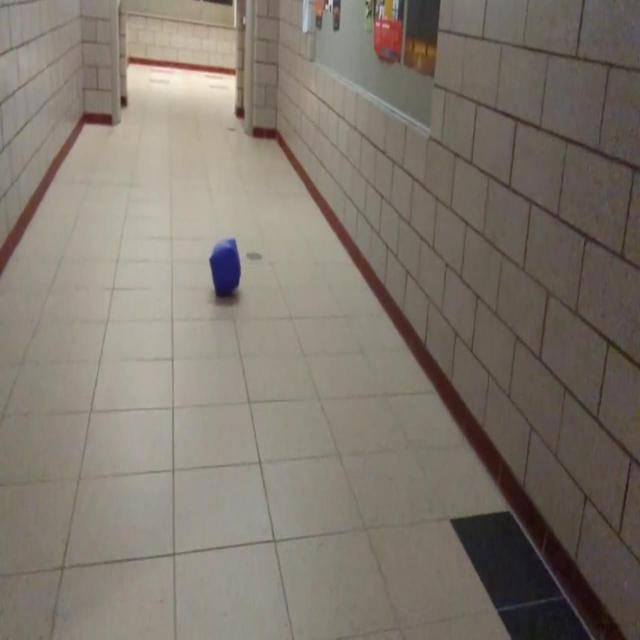frc_cube: (210, 239, 242, 297)
